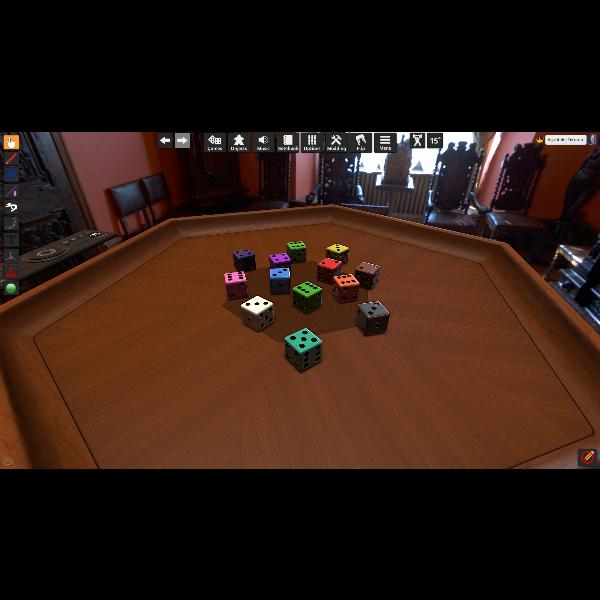d6: (286, 328, 324, 370), (241, 295, 275, 331), (356, 302, 388, 336), (290, 280, 320, 312), (332, 273, 360, 303), (354, 262, 380, 290), (224, 270, 248, 300), (317, 258, 343, 284), (232, 249, 256, 273), (270, 268, 292, 294), (326, 244, 350, 266), (286, 240, 306, 262), (269, 252, 291, 268)
